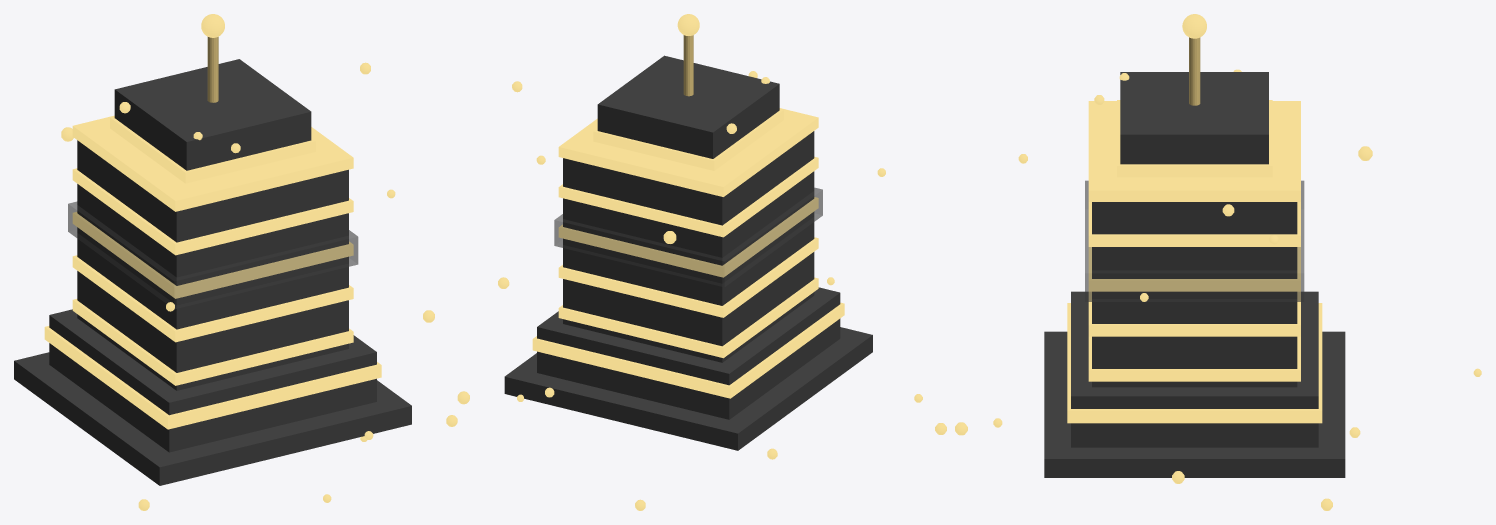
File: commercial_bubble.glb
3 renders of one model, left to right at view 1: azimuth 30°, elevation 25°; view 2: azimuth 150°, elevation 25°; view 3: azimuth 270°, elevation 25°, orthographic. The views are drawn at different scales.
Parts seen in each view (by area): view 1: Cube.003, Cube.001, Cube, Cube.010, Cube.009, Cube.008, Cube.002, Cube.004, Cube.005, Cube.007, Cube.006, Cube.011 (+1 smaller); view 2: Cube.003, Cube.001, Cube.010, Cube, Cube.009, Cube.008, Cube.002, Cube.004, Cube.007, Cube.005, Cube.006, Cube.011 (+1 smaller); view 3: Cube.003, Cube.001, Cube, Cube.010, Cube.008, Cube.009, Cube.002, Cube.004, Cube.006, Cube.005, Cube.007, Cube.011 (+1 smaller).
Boxes of the visible parts, x1=… form: Cube.003: x1=77, y1=140, x2=348, y2=390; Cube.001: x1=49, y1=309, x2=376, y2=452; Cube: x1=14, y1=352, x2=411, y2=485; Cube.010: x1=114, y1=59, x2=311, y2=170; Cube.009: x1=68, y1=201, x2=358, y2=308; Cube.008: x1=72, y1=115, x2=353, y2=211; Cube.002: x1=44, y1=326, x2=381, y2=429; Cube.004: x1=72, y1=299, x2=353, y2=385; Cube.005: x1=72, y1=255, x2=353, y2=342; Cube.007: x1=72, y1=168, x2=353, y2=255; Cube.006: x1=72, y1=212, x2=353, y2=298; Cube.011: x1=110, y1=116, x2=315, y2=183; Cube.003: x1=563, y1=131, x2=814, y2=362; Cube.001: x1=537, y1=287, x2=840, y2=419; Cube.010: x1=597, y1=55, x2=779, y2=158; Cube: x1=504, y1=327, x2=872, y2=450; Cube.009: x1=554, y1=188, x2=822, y2=287; Cube.008: x1=558, y1=108, x2=818, y2=196; Cube.002: x1=532, y1=302, x2=844, y2=398; Cube.004: x1=558, y1=277, x2=818, y2=358; Cube.007: x1=558, y1=156, x2=818, y2=237; Cube.005: x1=558, y1=237, x2=818, y2=317; Cube.006: x1=558, y1=197, x2=818, y2=277; Cube.011: x1=593, y1=109, x2=783, y2=170; Cube.003: x1=1092, y1=202, x2=1297, y2=387; Cube.001: x1=1071, y1=291, x2=1318, y2=447; Cube: x1=1044, y1=331, x2=1345, y2=477; Cube.010: x1=1120, y1=72, x2=1268, y2=164; Cube.008: x1=1088, y1=101, x2=1300, y2=201; Cube.009: x1=1085, y1=180, x2=1304, y2=301; Cube.002: x1=1067, y1=303, x2=1322, y2=423; Cube.004: x1=1088, y1=336, x2=1300, y2=381; Cube.006: x1=1088, y1=247, x2=1300, y2=291; Cube.005: x1=1088, y1=292, x2=1300, y2=336; Cube.007: x1=1088, y1=202, x2=1300, y2=246; Cube.011: x1=1117, y1=100, x2=1272, y2=177.
Bounding box in the file's own units: 1.15 × 1.56 × 1.6.
